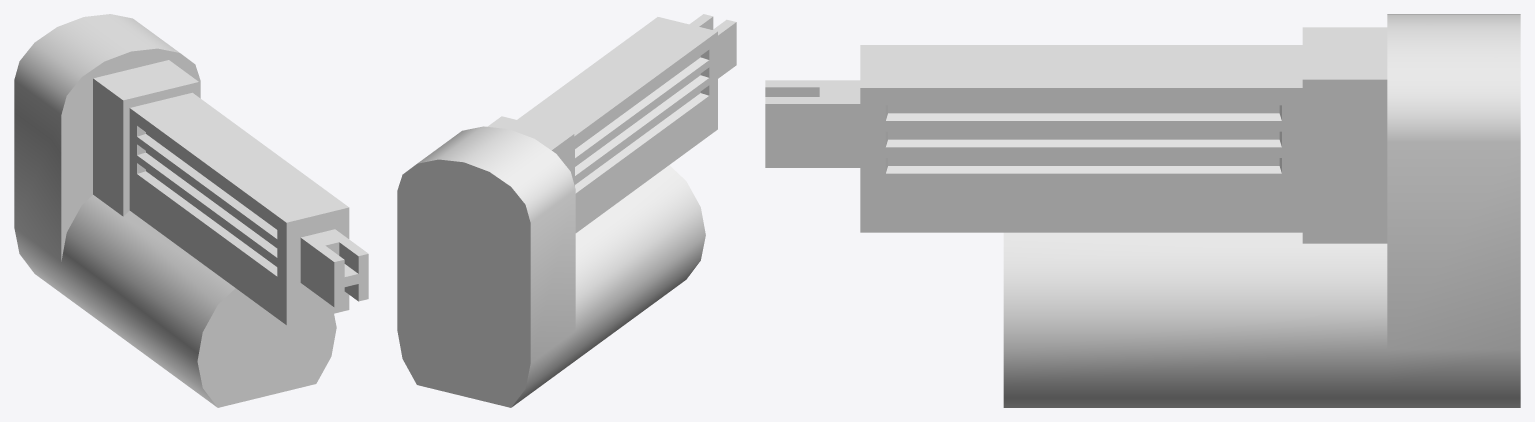
Rendered from Actuator.fbx.
3 renders of one model, left to right at view 1: azimuth 30°, elevation 25°; view 2: azimuth 150°, elevation 25°; view 3: azimuth 270°, elevation 25°, orthographic. The views are drawn at different scales.
Parts seen in each view (by area): view 1: Actuator; view 2: Actuator; view 3: Actuator.
Boxes of the visible parts, left/top/right/bottom form: Actuator: left=14, top=14, right=368, bottom=407; Actuator: left=397, top=14, right=736, bottom=407; Actuator: left=765, top=14, right=1520, bottom=407.
Size of the model in its own units: 28.1 by 47.21 by 93.55.
